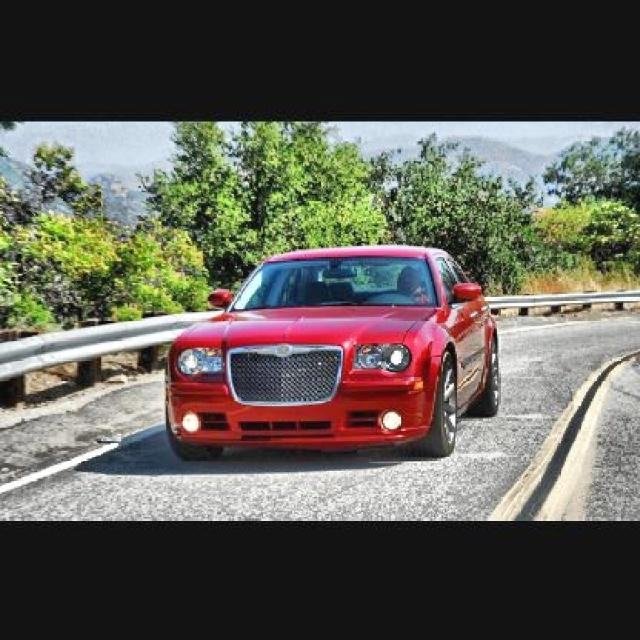red: (148, 240, 492, 471)
